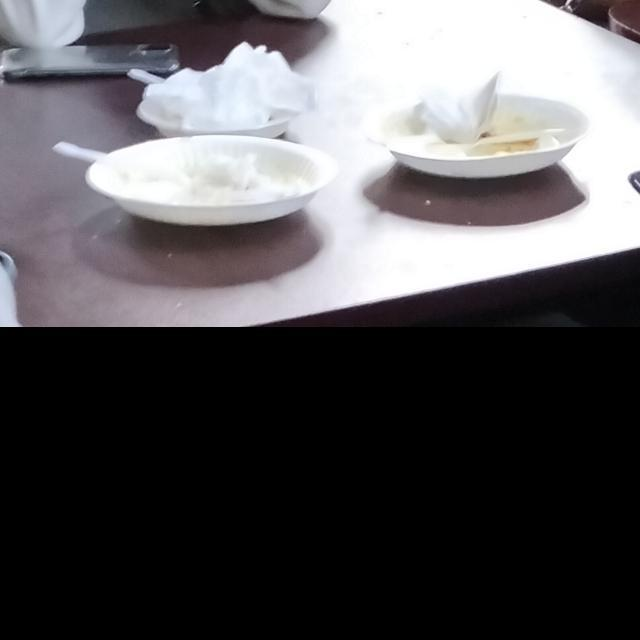kitchen paper: (148, 42, 328, 116), (410, 72, 515, 141)
